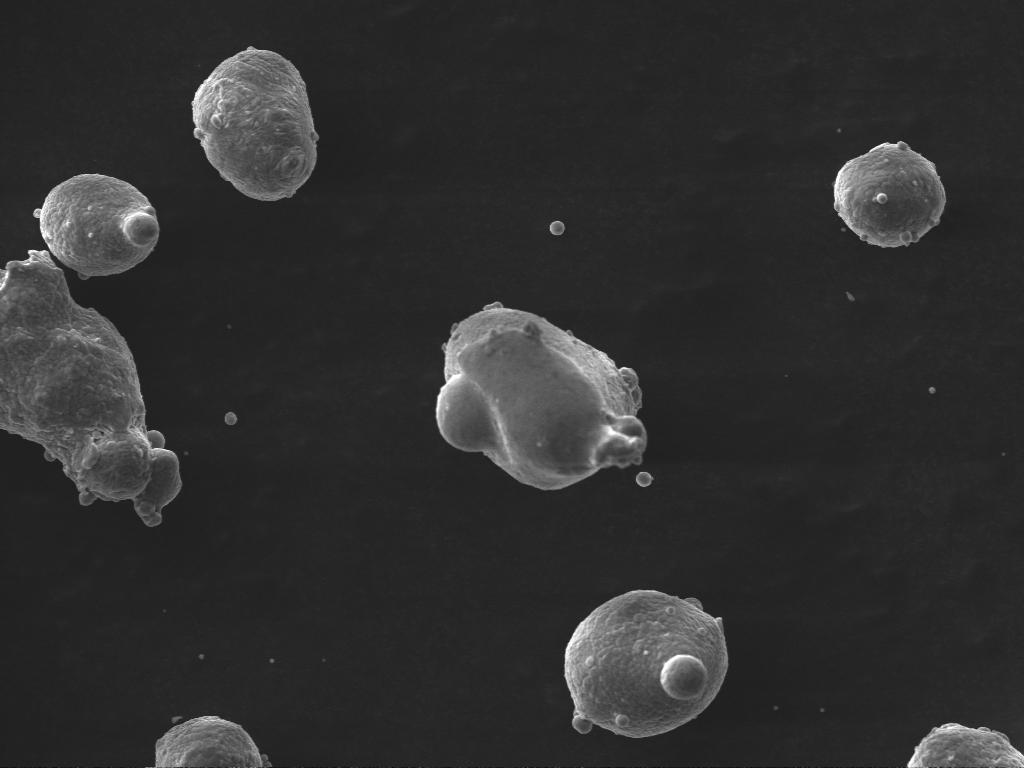Powder: (0, 252, 182, 526), (436, 302, 646, 490), (566, 590, 728, 737), (192, 48, 318, 200), (40, 174, 160, 278), (834, 142, 946, 246), (156, 716, 262, 767), (908, 724, 1024, 768)
